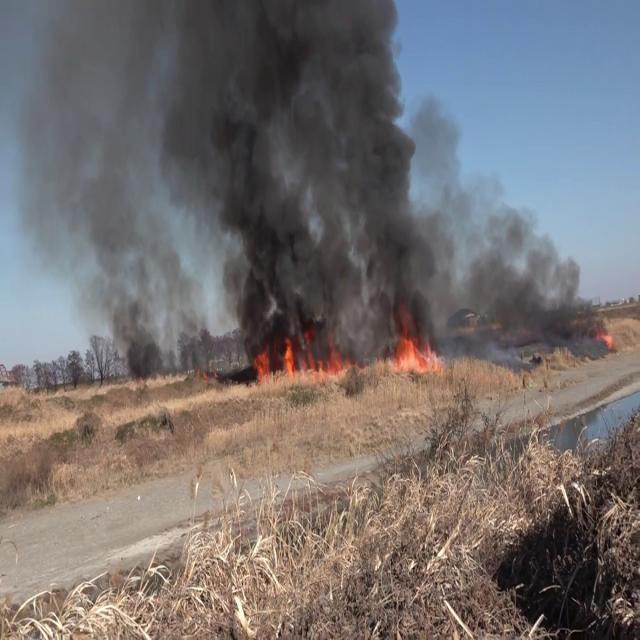Fire: (280, 322, 352, 387), (388, 314, 444, 378)
Smoke: (11, 1, 450, 356), (446, 186, 598, 350)
